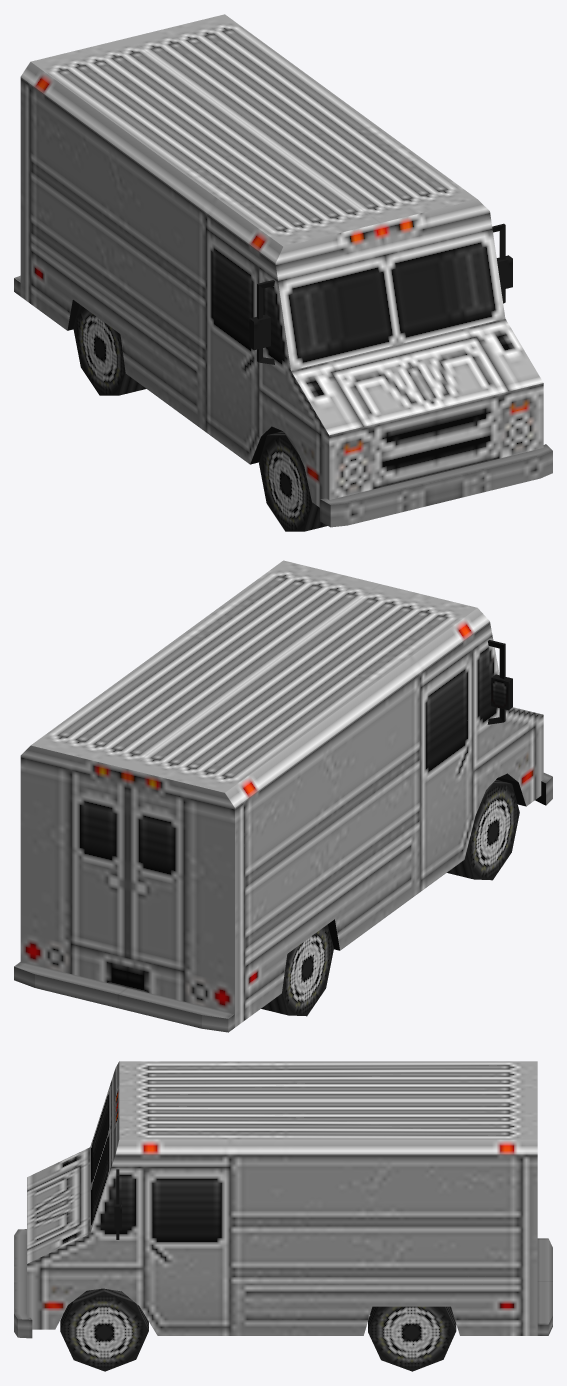
Rendered from Auto7blanco.fbx.
3 renders of one model, top to bottom at view 1: azimuth 30°, elevation 25°; view 2: azimuth 150°, elevation 25°; view 3: azimuth 270°, elevation 25°, orthographic. The views are drawn at different scales.
Parts seen in each view (by area): view 1: Car8; view 2: Car8; view 3: Car8.
Part boxes in pixels (x1,y1,x2,y2): Car8: [14, 14, 552, 531]; Car8: [14, 560, 552, 1032]; Car8: [14, 1061, 552, 1371].
Bounding box in the file's own units: 317 × 323 × 689.
Materials: 1 (1 with a texture image).
